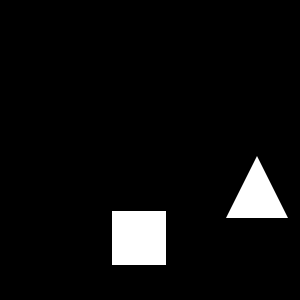circle: (112, 211, 166, 265)
triangle: (226, 156, 288, 218)
